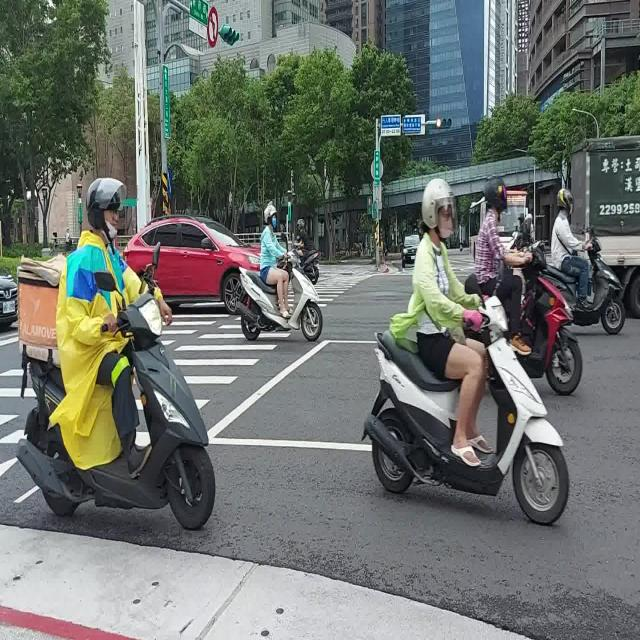bus: (498, 191, 527, 247), (469, 198, 488, 260)
car: (125, 216, 260, 313), (401, 233, 420, 266)
crosswalk: (170, 313, 292, 411), (162, 310, 231, 347), (315, 274, 373, 309), (0, 363, 23, 426)
motocycle: (16, 293, 215, 529), (364, 296, 569, 524), (520, 240, 581, 394), (545, 233, 625, 336), (239, 251, 322, 340), (301, 249, 320, 284)
trunk: (571, 136, 640, 318)
